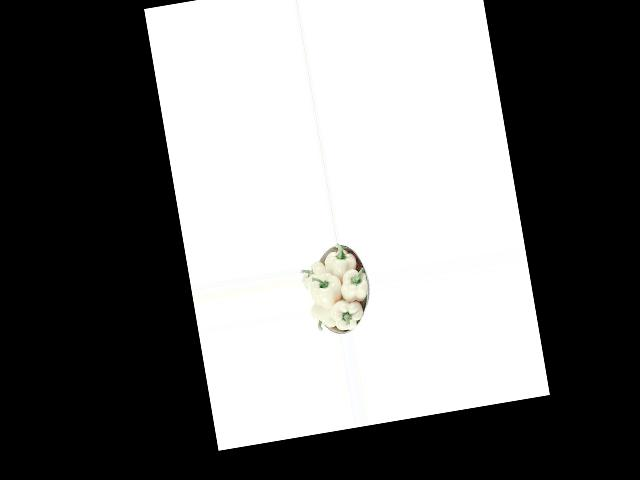bell_pepper: (299, 257, 331, 290)
